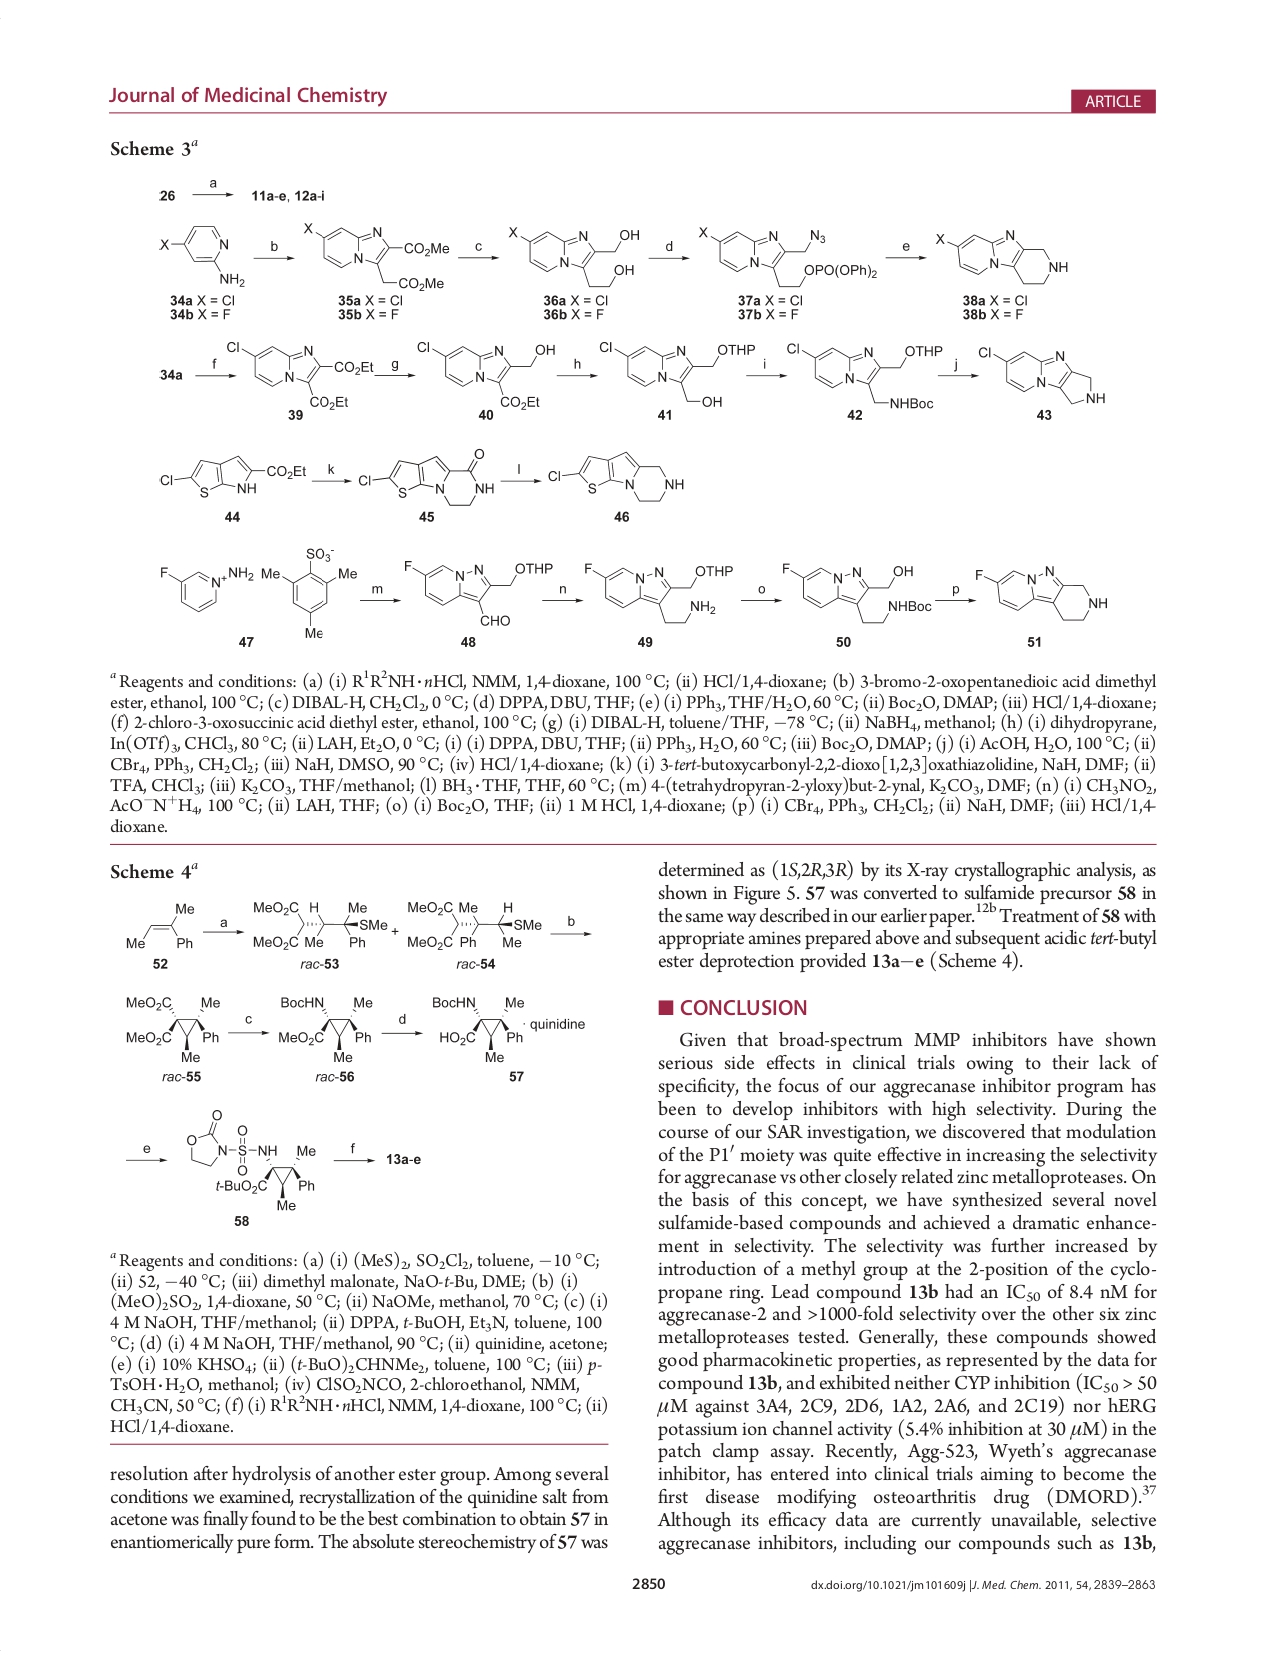exist_molecular: (182, 1106, 318, 1213), (697, 219, 878, 291), (301, 213, 453, 293), (596, 336, 757, 410), (223, 335, 374, 412), (400, 555, 555, 628), (414, 335, 559, 412), (785, 340, 942, 410), (781, 556, 934, 626), (505, 219, 645, 293), (581, 559, 733, 625), (257, 544, 359, 638), (356, 446, 497, 509), (977, 342, 1108, 410), (932, 226, 1071, 289), (973, 563, 1108, 624), (269, 993, 379, 1067), (118, 992, 225, 1068), (545, 449, 688, 505), (247, 895, 388, 951), (157, 451, 309, 503), (402, 896, 547, 950), (430, 991, 528, 1067), (158, 222, 247, 291), (153, 560, 257, 618), (122, 900, 195, 952)
